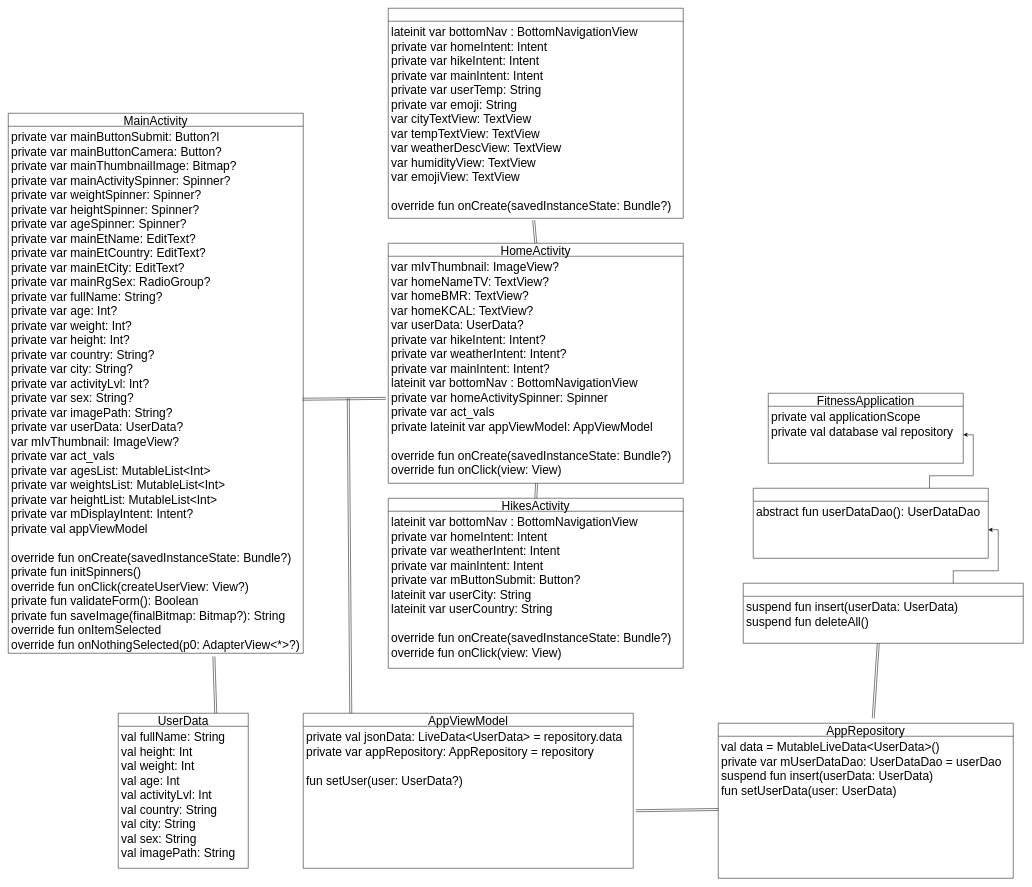
The diagram is 1032 pixels wide and 887 high, and some of its shapes have lost their labels. The box of each missing label's shape, as (x1, y1, x2, y2) in pixels:
UserDataDao: (743, 583, 1023, 643)
UserRoomDatabase: (753, 488, 988, 558)
WeatherActivity: (388, 8, 683, 218)
